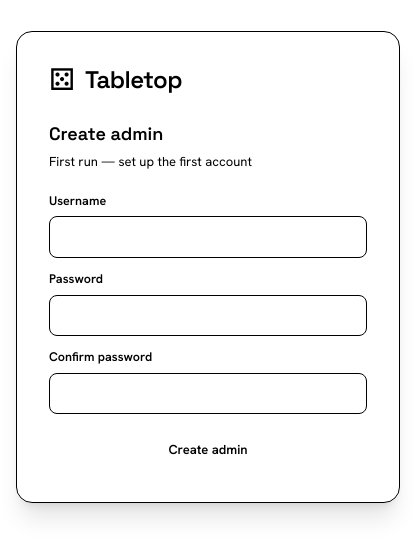
Scenario: Login › blocks mismatched passwords on the create-admin form
Expected: the button "Create admin" is shown, top-left (49, 430), bottom-right (367, 470)
Type "maya" into the field labelled "Username" at point(208, 237), box top-left (49, 216), bottom-right (367, 258)
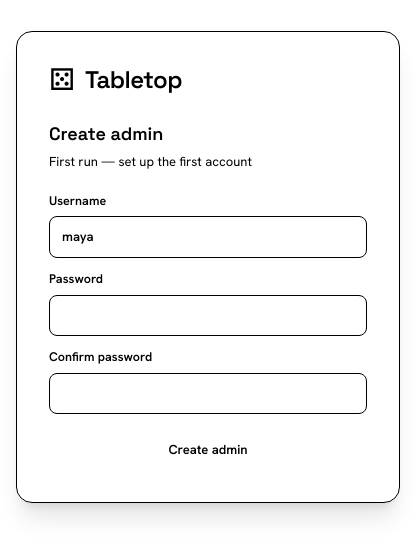
Type "supersecret" into the password field labelled "Password" at point(208, 315), box top-left (49, 295), bottom-right (367, 336)
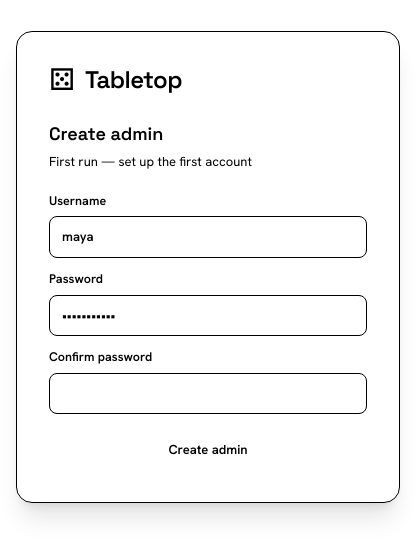
Type "different1" into the password field labelled "Confirm password" at point(208, 394), box top-left (49, 373), bottom-right (367, 414)
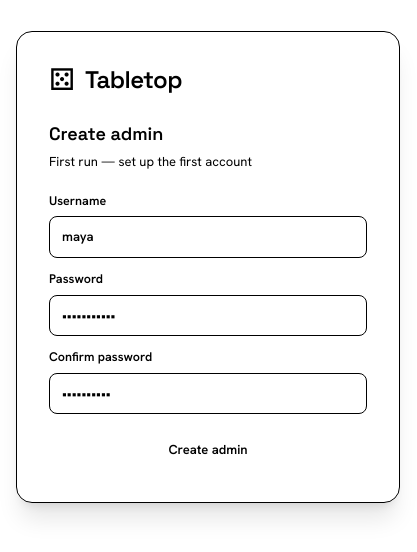
Click the button "Create admin" at point(208, 450), box top-left (49, 430), bottom-right (367, 470)
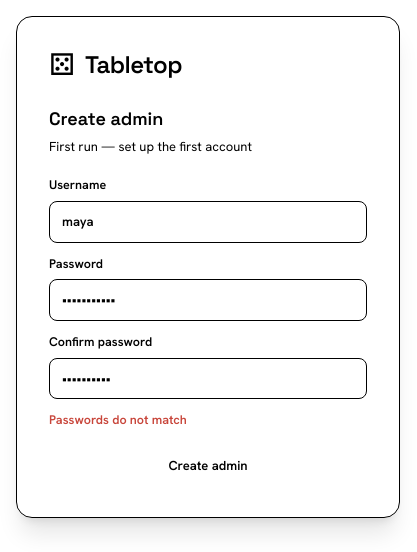
Now the message reads "Passwords do not match", box top-left (49, 411), bottom-right (187, 428)
